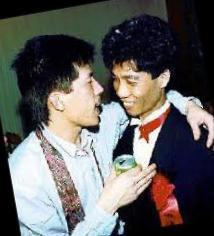Drunk: (107, 62, 153, 118), (72, 65, 106, 129)
